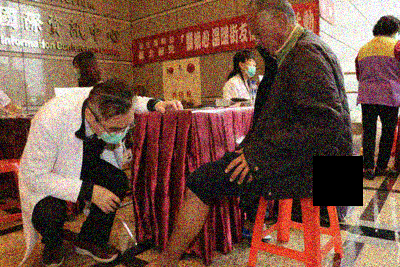with_mask: (95, 116, 135, 145), (244, 59, 257, 78), (73, 64, 84, 80)
without_mask: (249, 26, 284, 57)
